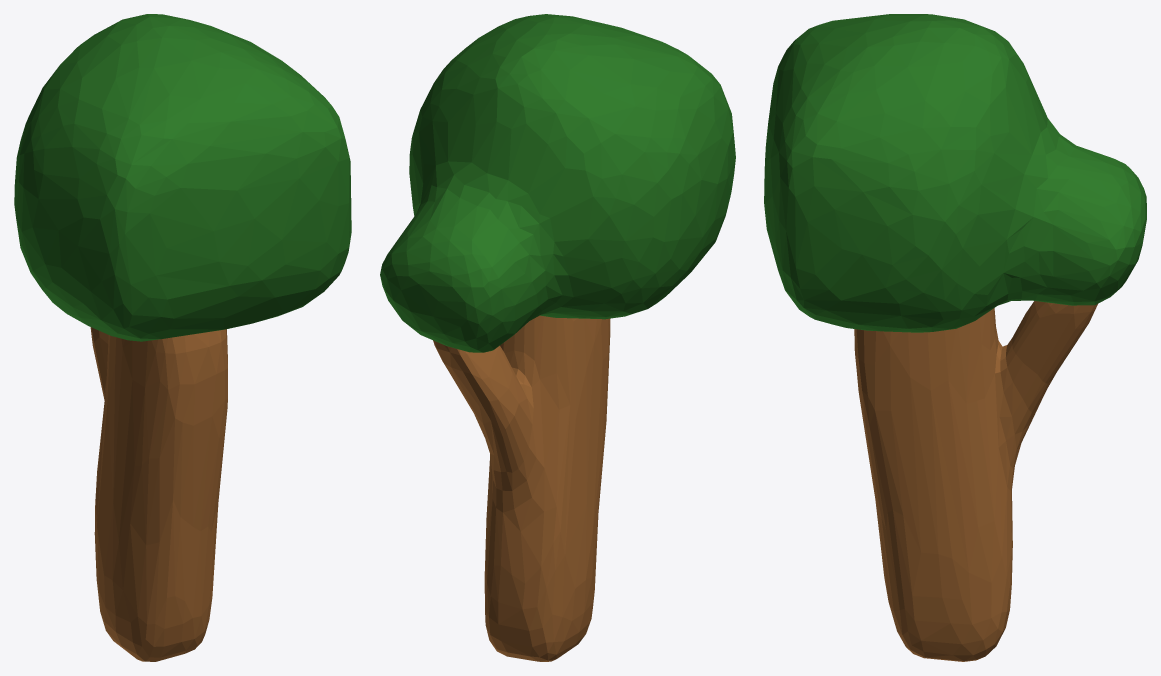
File: TreeBasicLOD0.fbx
3 views of the same model, side by side, from view 1: azimuth 30°, elevation 25°; view 2: azimuth 150°, elevation 25°; view 3: azimuth 270°, elevation 25° (orthographic). The views are drawn at different scales.
Parts seen in each view (by area): view 1: Cube.004, Cube.005; view 2: Cube.004, Cube.005; view 3: Cube.004, Cube.005.
Part boxes in pixels (left/top/right/bottom): Cube.004: left=14, top=14, right=351, bottom=341; Cube.005: left=90, top=327, right=227, bottom=661; Cube.004: left=380, top=14, right=735, bottom=352; Cube.005: left=433, top=315, right=610, bottom=661; Cube.004: left=764, top=14, right=1146, bottom=332; Cube.005: left=854, top=301, right=1097, bottom=661.
Size of the model in its own units: 714 by 1287 by 603.
